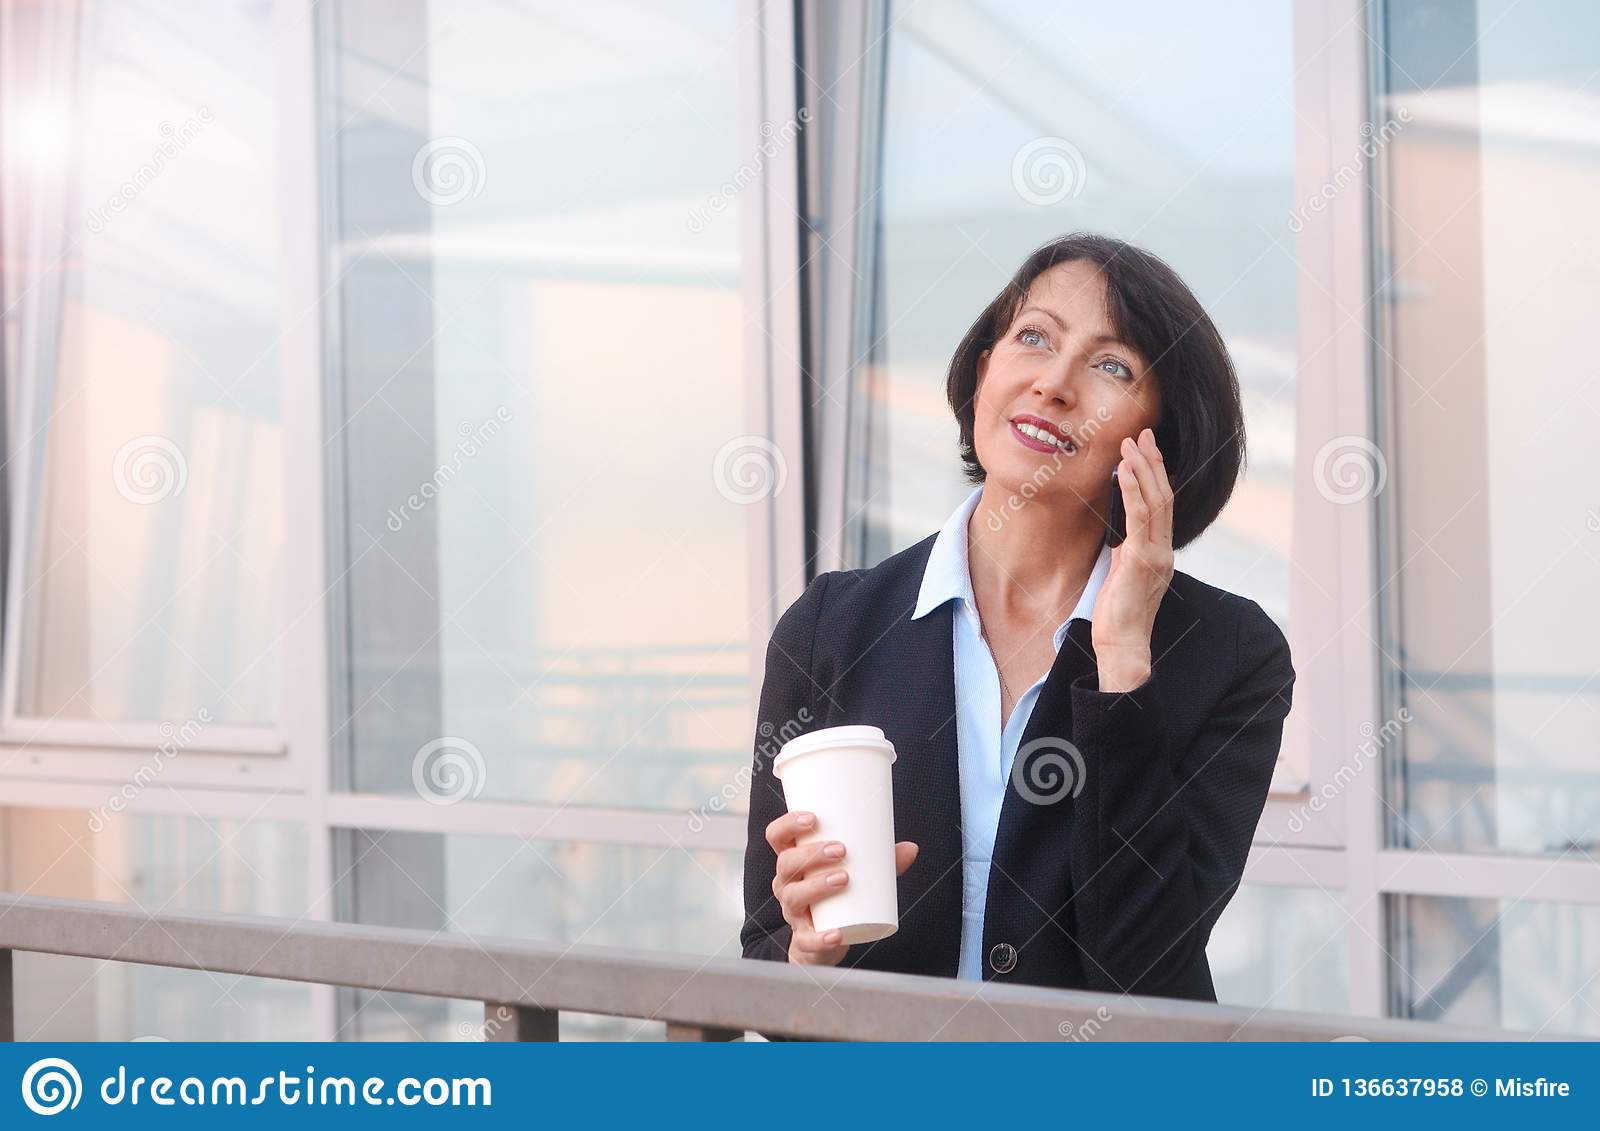phone: (1110, 400, 1175, 553)
talk: (962, 300, 1180, 659)
